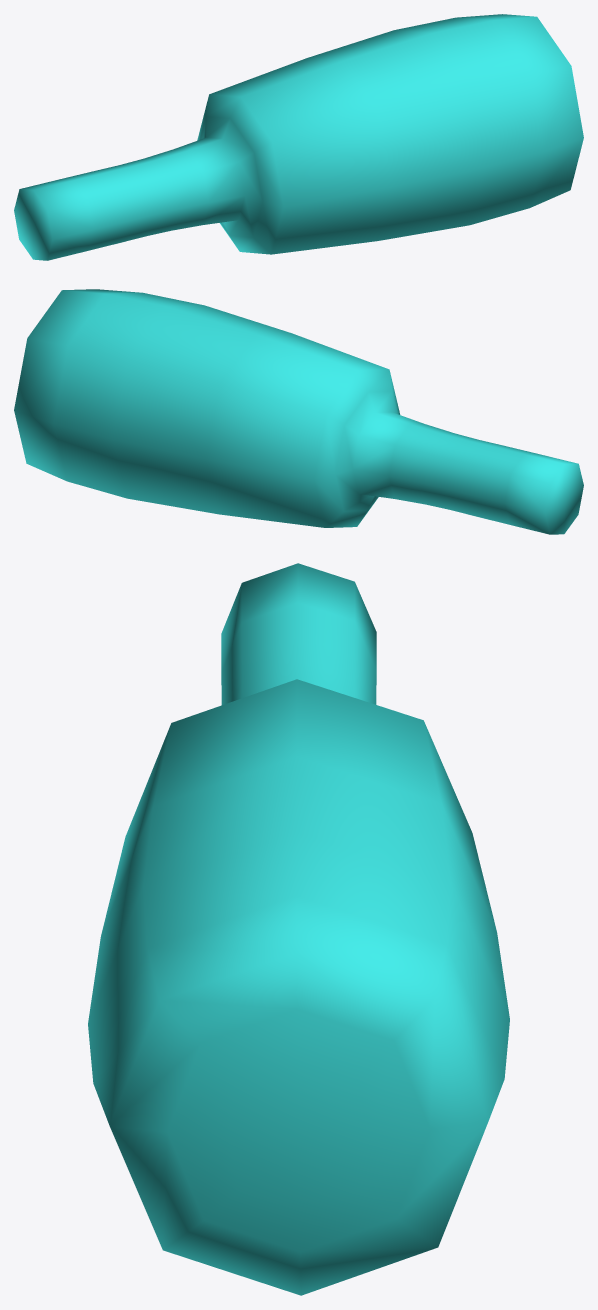
File: FishingRodReelHandle 2024_10_23.fbx
The picture shows the model from 3 angles, top to bottom: view 1: azimuth 30°, elevation 25°; view 2: azimuth 150°, elevation 25°; view 3: azimuth 270°, elevation 25°; orthographic projection. The views are drawn at different scales.
Parts seen in each view (by area): view 1: ReelNob; view 2: ReelNob; view 3: ReelNob.
Part boxes in pixels (x1,y1,x2,y2): ReelNob: [14, 14, 583, 260]; ReelNob: [14, 289, 583, 534]; ReelNob: [88, 563, 509, 1295].
Size of the model in its own units: 23.98 by 8.41 by 8.48.
